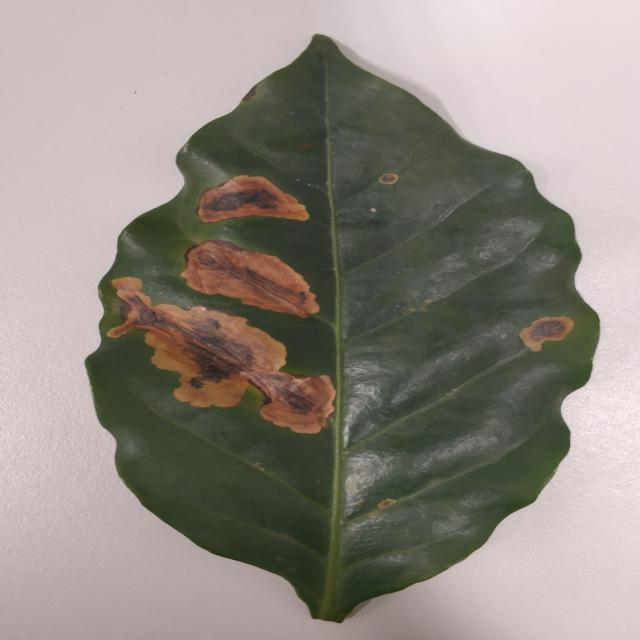Plaga-Minador: (84, 35, 602, 620)
